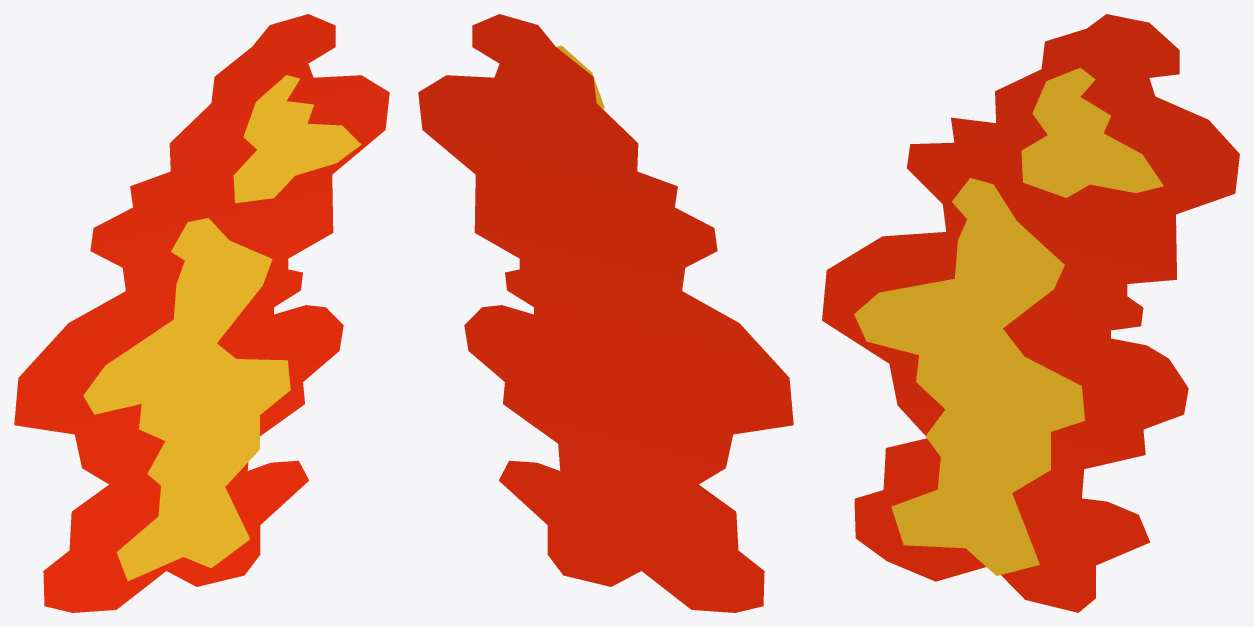
The model's file is fogonazo-003.gltf.
3 views of the same model, side by side, from view 1: azimuth 30°, elevation 25°; view 2: azimuth 150°, elevation 25°; view 3: azimuth 330°, elevation 25° (orthographic). The views are drawn at different scales.
Visible parts, largest first — view 1: Caldero_Fogonazo-f.003; view 2: Caldero_Fogonazo-f.003; view 3: Caldero_Fogonazo-f.003.
Boxes of the visible parts, x1,y1,x2,y2 form: Caldero_Fogonazo-f.003: [14, 14, 389, 612]; Caldero_Fogonazo-f.003: [418, 14, 793, 612]; Caldero_Fogonazo-f.003: [822, 14, 1239, 612].
Size of the model in its own units: 0.3239 by 0.4525 by 0.03.
1 material, 1 textured.
